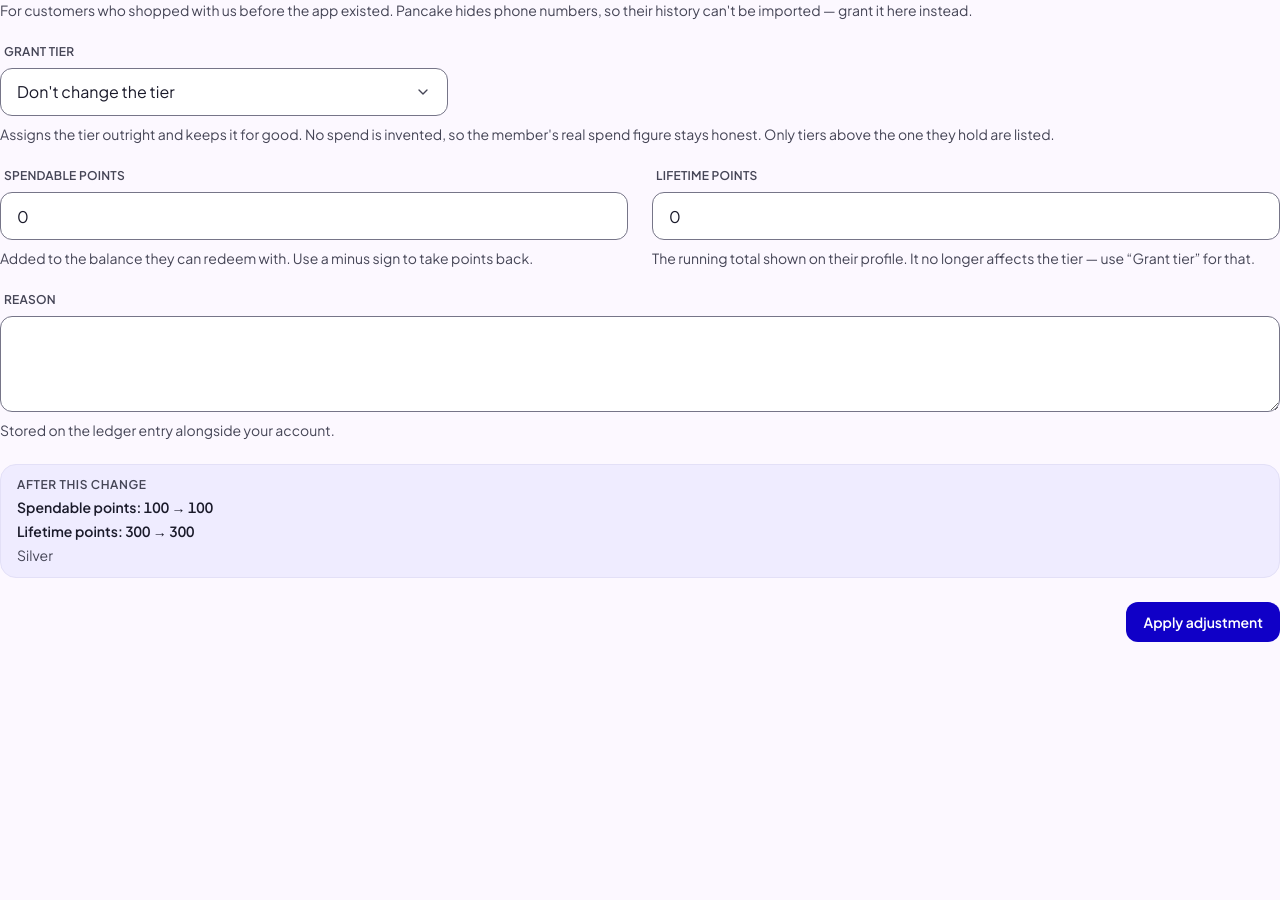
Test case: AdjustForm › surfaces a server-side failure on the form
Replace the text in the number field labelled "Spendable points" with "-500" at point(314, 216), box x1=0 y1=192 x2=628 y2=240
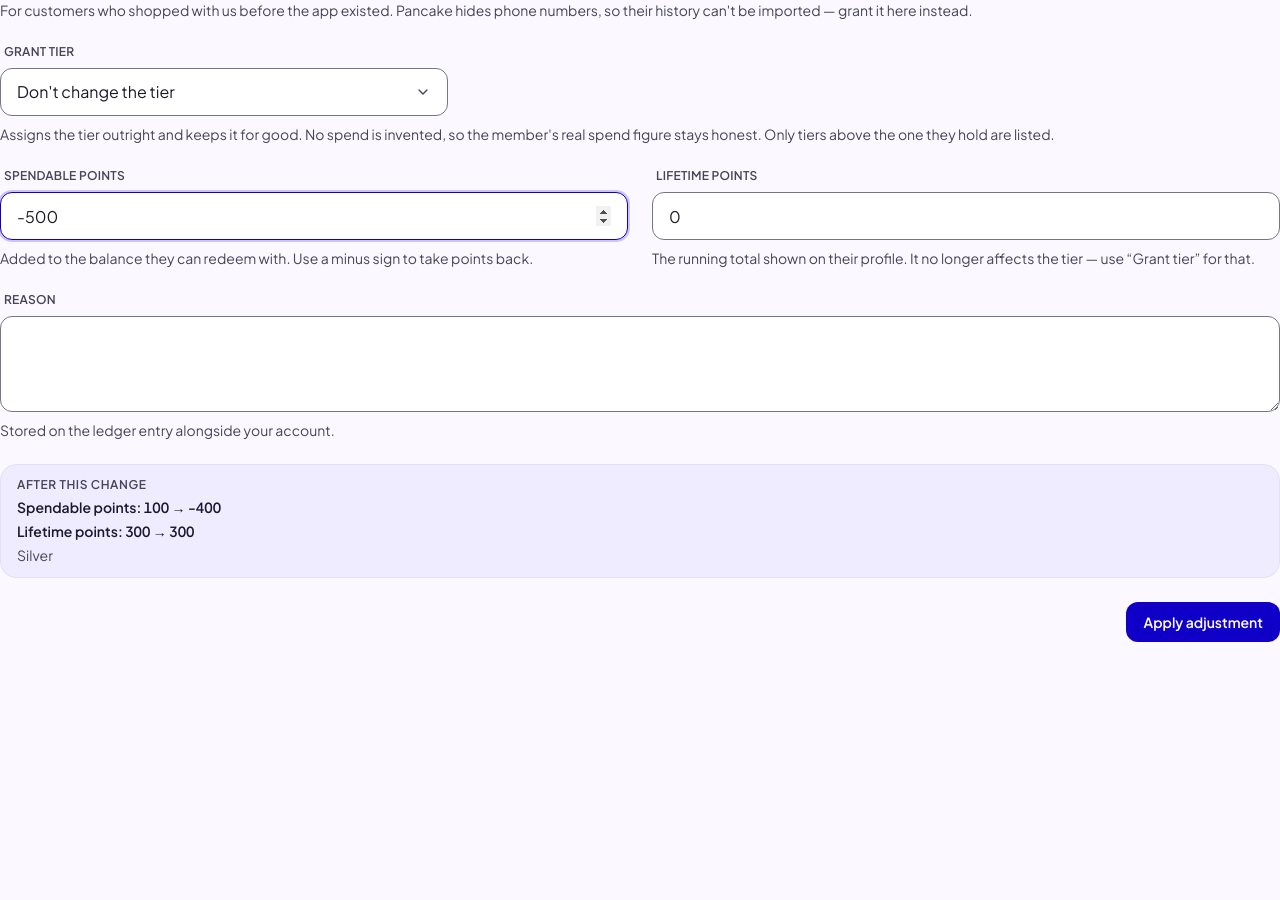
Type "Thu hồi điểm" into the text box labelled "Reason" at point(640, 364), box x1=0 y1=316 x2=1279 y2=412
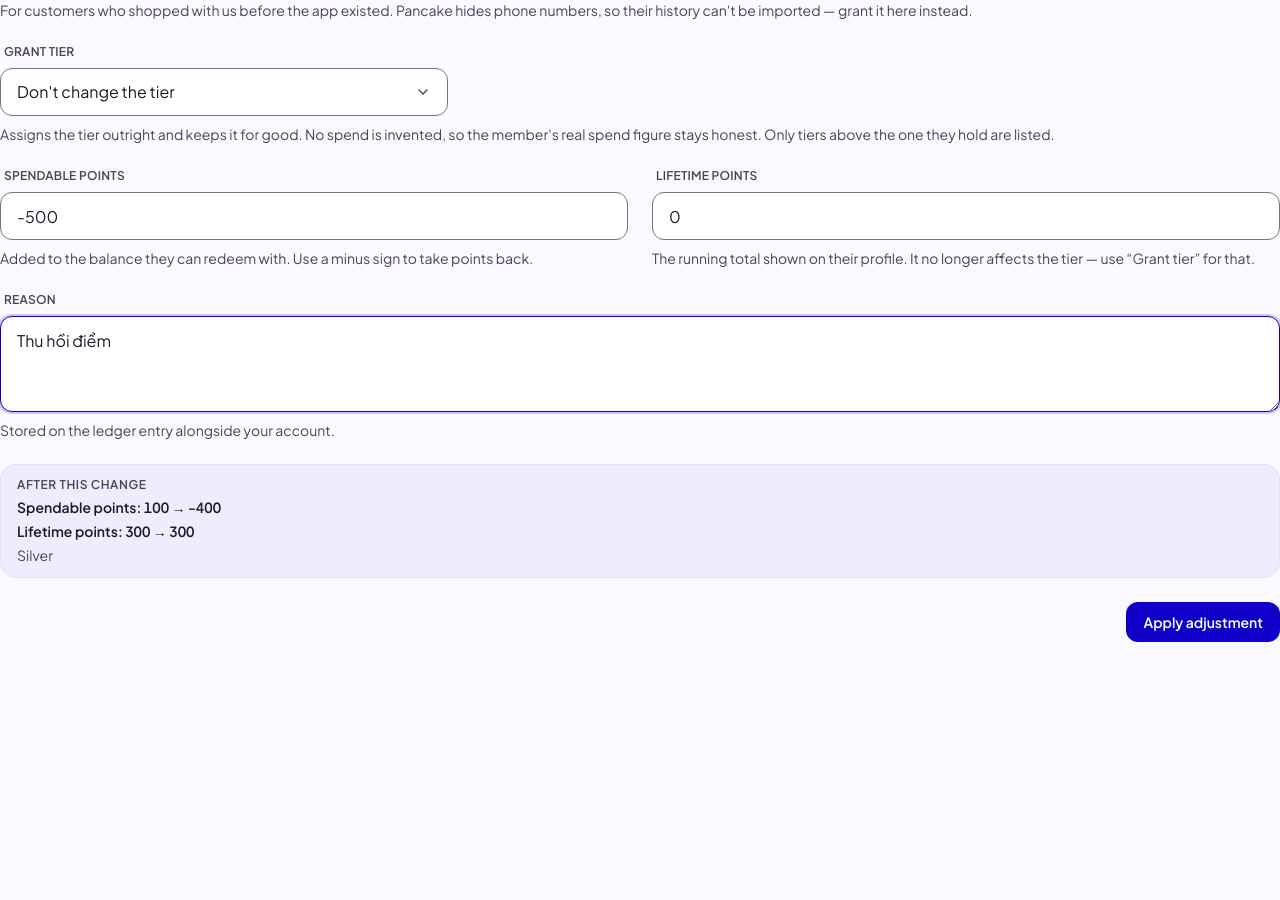
Click the button "Apply adjustment" at point(1203, 622), box x1=1126 y1=602 x2=1279 y2=642
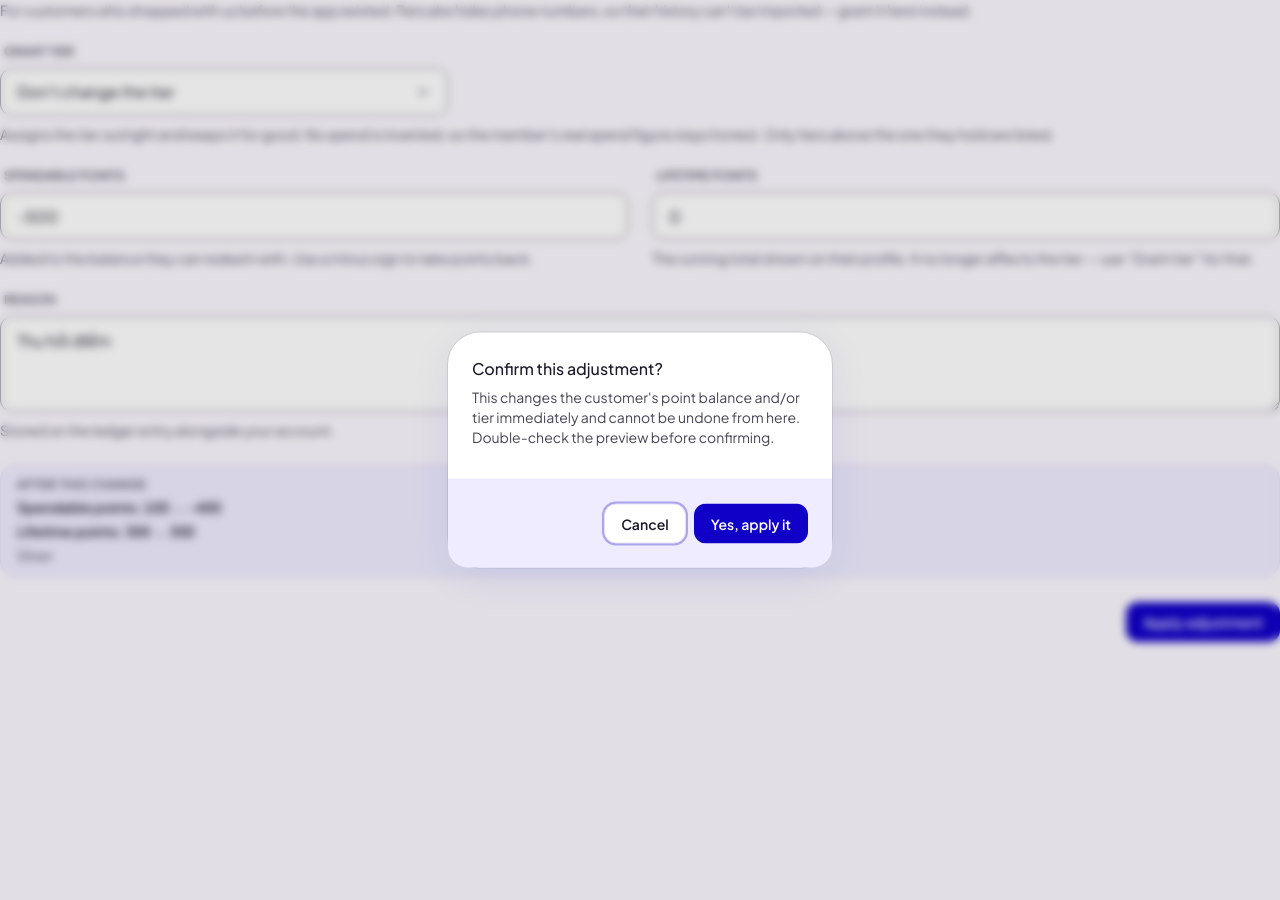
Click the button "Yes, apply it" at point(751, 524), box x1=694 y1=504 x2=808 y2=544
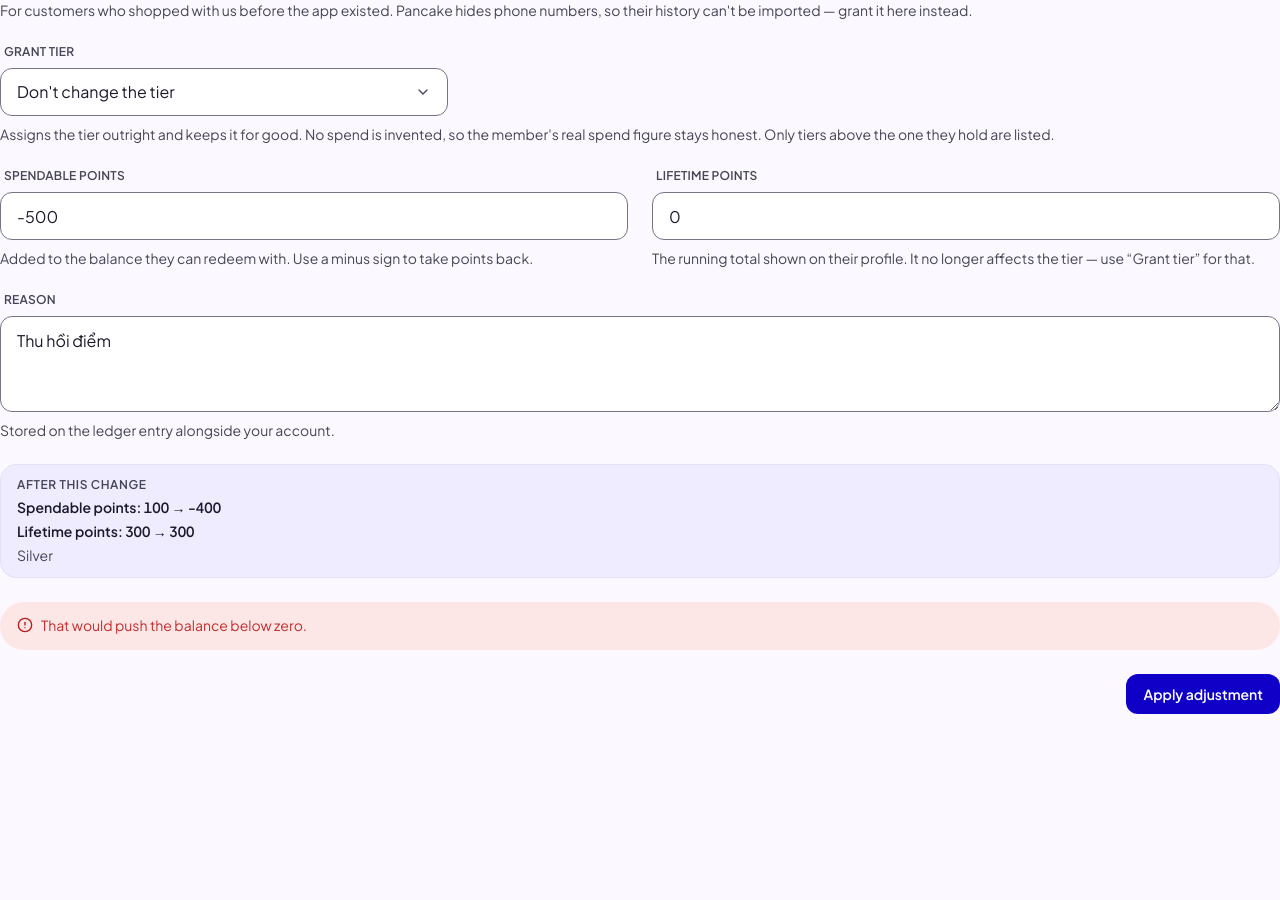
Expected: the text "That would push the balance below zero." is shown, x1=41 y1=616 x2=307 y2=634
